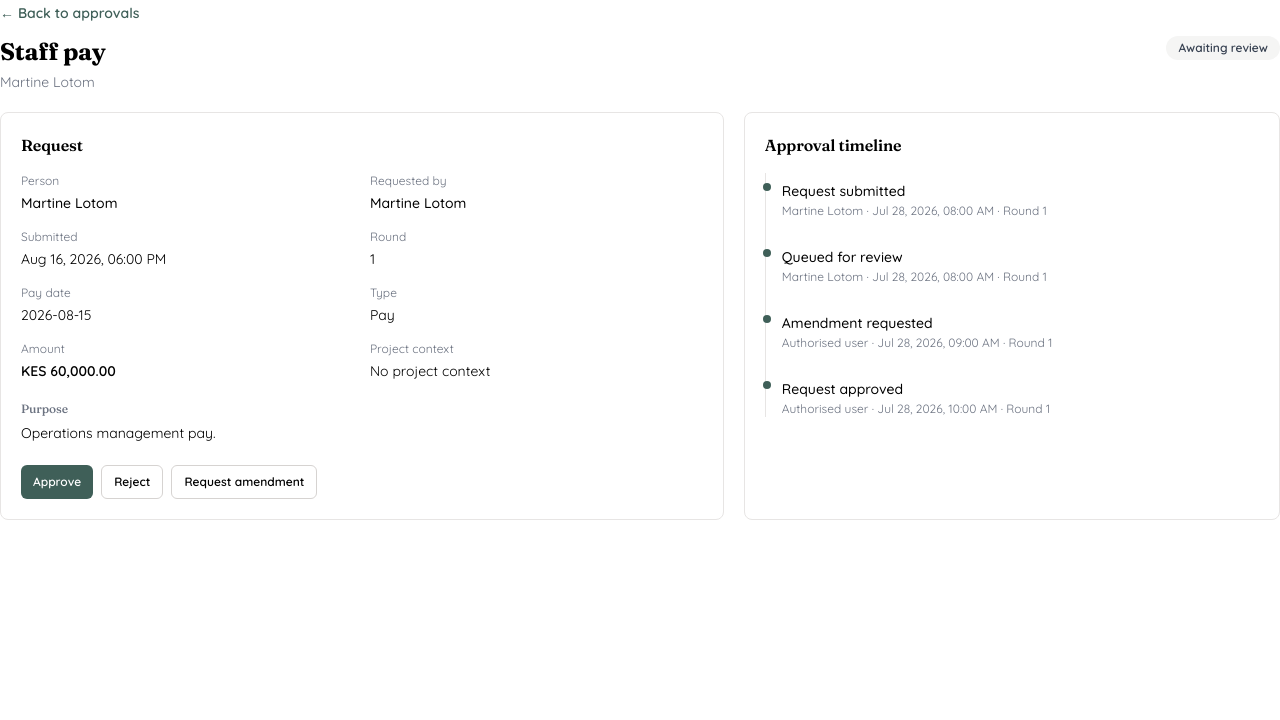
Admin approval detail › requires a reason when rejecting Staff Pay
Click the button "Reject". click: (132, 482)
box: [101, 465, 164, 499]
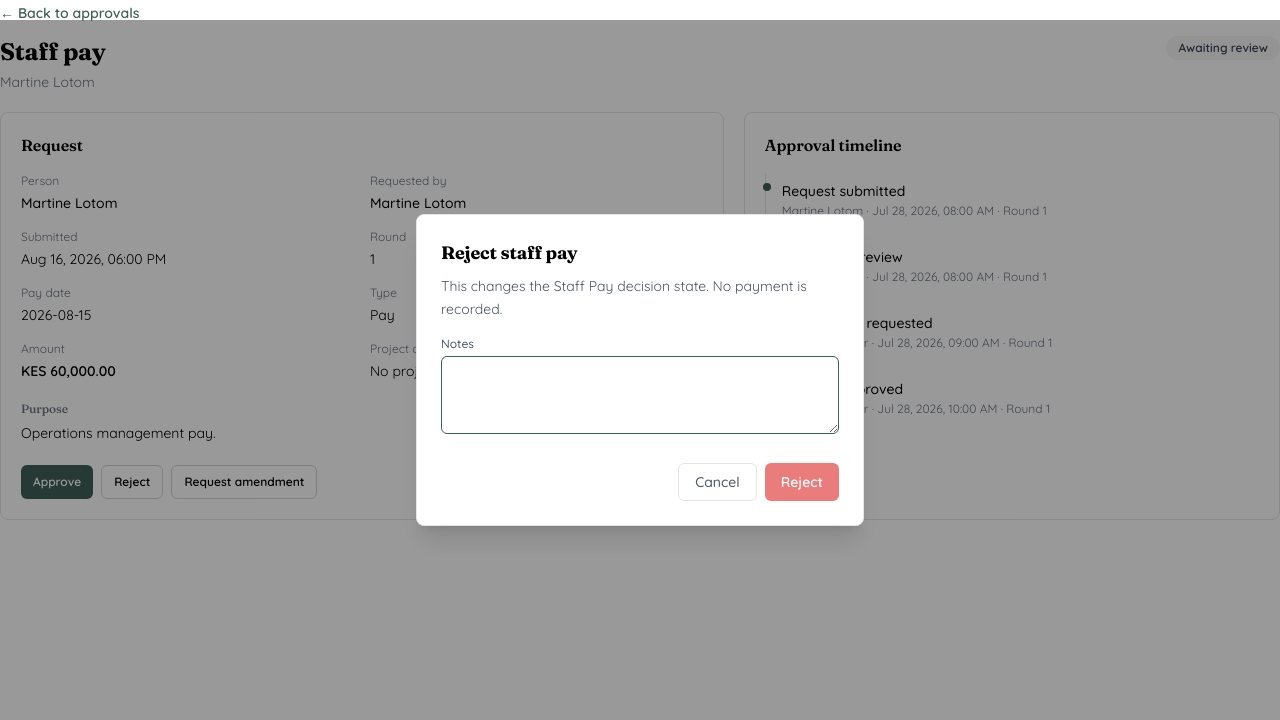
Check: the button "Reject" is disabled, box [765, 463, 839, 501]
Type "Amount needs correction." into the text box. click: (640, 395)
box: [441, 356, 839, 434]
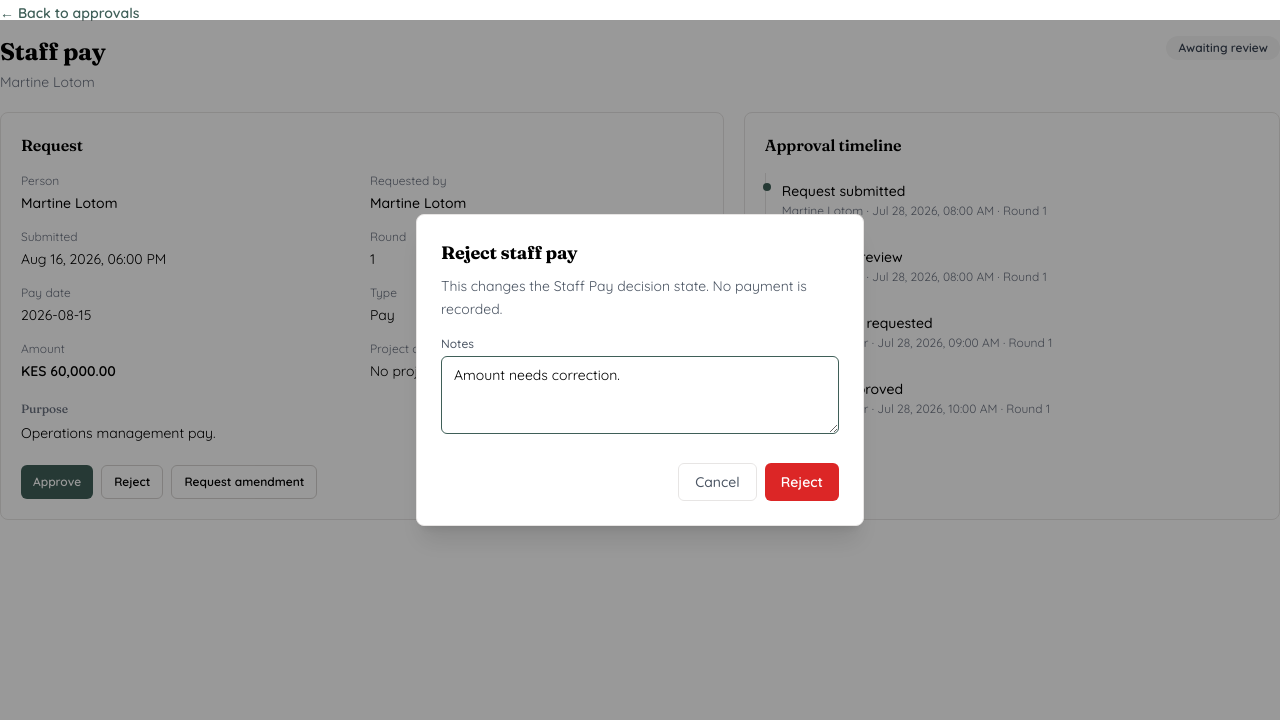
Check: the button "Reject" is enabled, box [765, 463, 839, 501]
